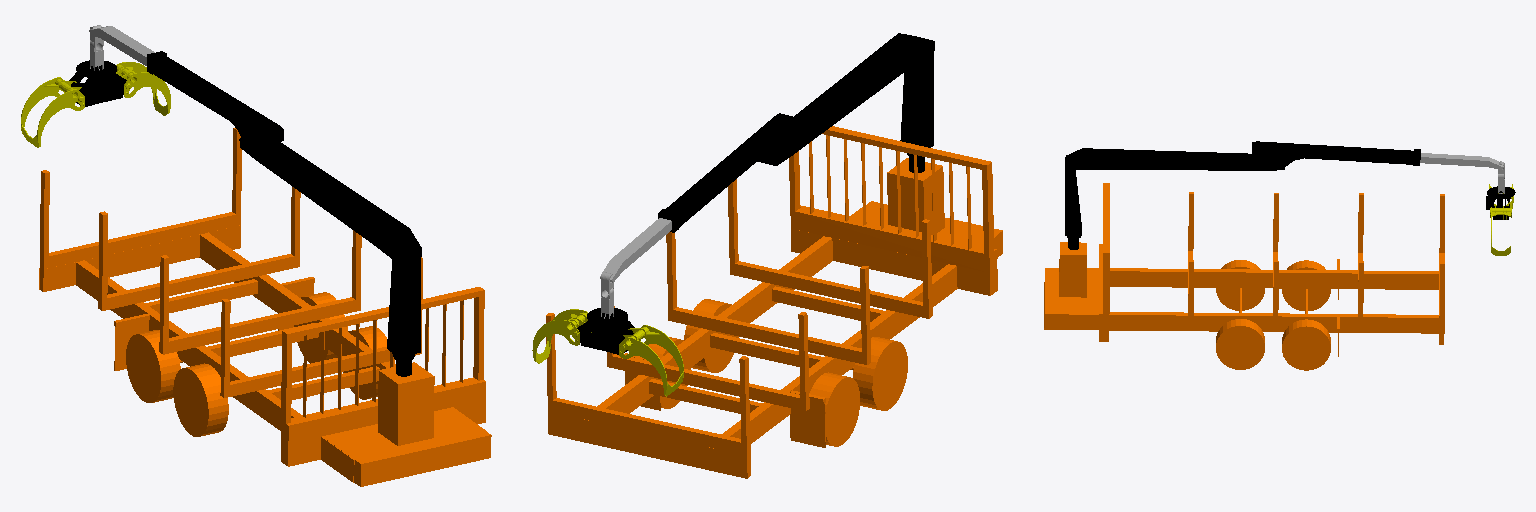
The robot description file, URDF, robot "crane_robot":
<?xml version="1.0" ?>
<!-- =================================================================================== -->
<!-- |    This document was autogenerated by xacro from urdf/fpi_crane.urdf.xacro      | -->
<!-- |    EDITING THIS FILE BY HAND IS NOT RECOMMENDED                                 | -->
<!-- =================================================================================== -->
<robot name="crane_robot">
  <!-- material definition -->
  <material name="black">
    <color rgba="0 0 0 1"/>
  </material>
  <material name="gray">
    <color rgba="0.7 0.7 0.7 1"/>
  </material>
  <material name="yellow">
    <color rgba="0.8 0.8 0 1"/>
  </material>
  <material name="orange">
    <color rgba="1 0.5 0 1"/>
  </material>
  <!-- links -->
  <link name="base_link">
    <visual>
      <geometry>
        <mesh filename="package://fpi_crane_description/meshes/base.stl"/>
      </geometry>
      <origin rpy="0 0 0" xyz="0 0 0"/>
      <material name="black"/>
    </visual>
  </link>
  <link name="mast">
    <visual>
      <geometry>
        <mesh filename="package://fpi_crane_description/meshes/mast.stl"/>
      </geometry>
      <origin rpy="0 0 0" xyz="0 0 0"/>
      <material name="black"/>
    </visual>
  </link>
  <link name="mainboom">
    <visual>
      <geometry>
        <mesh filename="package://fpi_crane_description/meshes/mainboom.stl"/>
      </geometry>
      <origin rpy="0 0 0" xyz="0 0 0"/>
      <material name="black"/>
    </visual>
  </link>
  <link name="stick">
    <visual>
      <geometry>
        <mesh filename="package://fpi_crane_description/meshes/stick.stl"/>
      </geometry>
      <origin rpy="0 0 0" xyz="0 0 0"/>
      <material name="black"/>
    </visual>
  </link>
  <link name="telescope">
    <visual>
      <geometry>
        <mesh filename="package://fpi_crane_description/meshes/telescope.stl"/>
      </geometry>
      <origin rpy="0 0 0" xyz="0 0 0"/>
      <material name="gray"/>
    </visual>
  </link>
  <link name="upperpassive">
    <visual>
      <geometry>
        <mesh filename="package://fpi_crane_description/meshes/upperpassive.stl"/>
      </geometry>
      <origin rpy="0 0 0" xyz="0 0 0"/>
      <material name="gray"/>
    </visual>
  </link>
  <link name="lowerpassive">
    <visual>
      <geometry>
        <mesh filename="package://fpi_crane_description/meshes/lowerpassive.stl"/>
      </geometry>
      <origin rpy="0 0 0" xyz="0 0 0"/>
      <material name="gray"/>
    </visual>
  </link>
  <link name="grapplecarrier">
    <visual>
      <geometry>
        <mesh filename="package://fpi_crane_description/meshes/grapplecarrier.stl"/>
      </geometry>
      <origin rpy="0 0 0" xyz="0 0 0"/>
      <material name="black"/>
    </visual>
  </link>
  <link name="grappletong1">
    <visual>
      <geometry>
        <mesh filename="package://fpi_crane_description/meshes/grappletong1.stl"/>
      </geometry>
      <origin rpy="0 0 0" xyz="0 0 0"/>
      <material name="yellow"/>
    </visual>
  </link>
  <link name="grappletong2">
    <visual>
      <geometry>
        <mesh filename="package://fpi_crane_description/meshes/grappletong2.stl"/>
      </geometry>
      <origin rpy="0 0 0" xyz="0 0 0"/>
      <material name="yellow"/>
    </visual>
  </link>
  <link name="trailer">
    <visual>
      <geometry>
        <mesh filename="package://fpi_crane_description/meshes/trailer.stl"/>
      </geometry>
      <origin rpy="0 0 0" xyz="0  0 0.625"/>
      <material name="orange"/>
    </visual>
  </link>
  <link name="camera_zed">
    <origin rpy="0 0 3.1416" xyz="0.06 -0.0335 0"/>
  </link>
  <link name="mast_sensor_bracket"/>
  <link name="grappletong1_tip"/>
  <link name="grappletong2_tip"/>
  <!-- joints -->
  <joint name="slew_joint" type="revolute">
    <parent link="base_link"/>
    <child link="mast"/>
    <origin xyz="0 0 0.26881"/>
    <axis rpy="0 0 0" xyz="0 0 1"/>
    <limit effort="500.0" lower="-1.74533" upper="1.74533" velocity="0.1745"/>
  </joint>
  <joint name="boom_joint" type="revolute">
    <parent link="mast"/>
    <child link="mainboom"/>
    <origin xyz="0 -0.0601374 1.09553"/>
    <axis rpy="0 0 0" xyz="1 0 0"/>
    <limit effort="500.0" lower="-0.383972" upper="1.309" velocity="0.1745"/>
  </joint>
  <joint name="stick_joint" type="revolute">
    <parent link="mainboom"/>
    <child link="stick"/>
    <origin xyz="0 3.04904 -0.00649"/>
    <axis rpy="0 0 0" xyz="1 0 0"/>
    <limit effort="500.0" lower="-3.08574" upper="0.035" velocity="0.1745"/>
  </joint>
  <joint name="telescope_joint" type="prismatic">
    <parent link="stick"/>
    <child link="telescope"/>
    <origin xyz="0 0.1256771629 0.21905106705"/>
    <axis rpy="0 0 0" xyz="0 0.997833966 -0.065782793"/>
    <limit effort="500.0" lower="0.13" upper="1.8" velocity="0.1"/>
  </joint>
  <joint name="hanger_joint" type="revolute">
    <parent link="telescope"/>
    <child link="upperpassive"/>
    <origin xyz="0 2.03711 -0.20229"/>
    <axis rpy="0 0 0" xyz="1 0 0"/>
    <limit effort="500.0" lower="-3.14159" upper="3.14159" velocity="0.1745"/>
  </joint>
  <joint name="bearingfork_joint" type="revolute">
    <parent link="upperpassive"/>
    <child link="lowerpassive"/>
    <origin xyz="0 0 -0.154"/>
    <axis rpy="0 0 0" xyz="0 1 0"/>
    <limit effort="500.0" lower="-3.14159" upper="3.14159" velocity="0.1745"/>
  </joint>
  <joint name="grapplecarrier_joint" type="revolute">
    <parent link="lowerpassive"/>
    <child link="grapplecarrier"/>
    <origin xyz="0 0 -0.261"/>
    <axis rpy="0 -1.22173 0" xyz="0 0 1"/>
    <limit effort="500.0" lower="-3.1241" upper="3.1241" velocity="0.1745"/>
  </joint>
  <joint name="grappletong1_joint" type="revolute">
    <parent link="grapplecarrier"/>
    <child link="grappletong1"/>
    <origin xyz="-0.275000000000001 -0.0192847891741644 -0.202"/>
    <axis rpy="0 0 0" xyz="0 -1 0"/>
    <limit effort="500.0" lower="0" upper="2.23402" velocity="0.1745"/>
  </joint>
  <joint name="grappletong2_joint" type="revolute">
    <parent link="grapplecarrier"/>
    <child link="grappletong2"/>
    <origin xyz="0.275000000000001 -0.0192847891741644 -0.202"/>
    <axis rpy="0 0 0" xyz="0 1 0"/>
    <limit effort="500.0" lower="0" upper="2.23402" velocity="0.1745"/>
  </joint>
  <joint name="trailer_joint" type="fixed">
    <parent link="base_link"/>
    <child link="trailer"/>
    <origin rpy="-0.010472 0.0191986 0" xyz="0 2.5525 -1.39"/>
  </joint>
  <joint name="camera_zed_joint" type="fixed">
    <parent link="stick"/>
    <child link="camera_zed"/>
    <origin rpy="0 0 0" xyz="0 0.37 0.03"/>
  </joint>
  <joint name="mast_sensor_bracket_joint" type="fixed">
    <parent link="mast"/>
    <child link="mast_sensor_bracket"/>
    <origin rpy="0 0.1 -0.05" xyz="-0.15 0 0.74"/>
  </joint>
  <joint name="grappletong1_tip_joint" type="fixed">
    <parent link="grappletong1"/>
    <child link="grappletong1_tip"/>
    <origin rpy="0 0 0" xyz="-0.458 0.02 -0.458"/>
  </joint>
  <joint name="grappletong2_tip_joint" type="fixed">
    <parent link="grappletong2"/>
    <child link="grappletong2_tip"/>
    <origin rpy="0 0 0" xyz="0.454 0.018 -0.454"/>
  </joint>
  <link name="zed_1_camera_link"/>
  <joint name="zed_1_joint" type="fixed">
    <parent link="camera_zed"/>
    <child link="zed_1_camera_link"/>
    <origin rpy="0 0 1.57" xyz="0 0 0"/>
  </joint>
  <link name="lidar_0/os_sensor"/>
  <joint name="lidar_0_os_sensor_joint" type="fixed">
    <parent link="mast_sensor_bracket"/>
    <child link="lidar_0/os_sensor"/>
    <origin rpy="3.014570 -0.058712 1.592957" xyz="-0.043806 0.063314 -0.021948"/>
  </joint>
  <link name="zed_0_camera_link"/>
  <joint name="zed_0_joint" type="fixed">
    <parent link="lidar_0/os_sensor"/>
    <child link="zed_0_camera_link"/>
    <origin rpy="-3.116670 -0.340682 -0.009565" xyz="-0.063993 0.091270 -0.158041"/>
  </joint>
</robot>

--- Render facts (derived) ---
Views: 3 orthographic renders of the robot side by side, from view 1: azimuth 30°, elevation 25°; view 2: azimuth 150°, elevation 25°; view 3: azimuth 270°, elevation 25°.
Model crane_robot with 18 links and 17 joints (8 revolute, 1 prismatic, 8 fixed), rooted at base_link, posed joints at zero except 1 at the middle of their limits (telescope_joint = 0.965).
Visible links, largest first — view 1: trailer, mainboom, stick, mast, grappletong1, grapplecarrier, grappletong2, telescope; view 2: trailer, mainboom, stick, mast, grappletong1, grapplecarrier, telescope, grappletong2; view 3: trailer, mainboom, stick, mast, telescope.
Boxes of the visible links, x1,y1,x2,y2 form: trailer: [39, 128, 491, 486]; mainboom: [239, 138, 421, 262]; stick: [147, 51, 283, 144]; mast: [387, 249, 420, 357]; grappletong1: [21, 77, 84, 147]; grapplecarrier: [69, 60, 126, 106]; grappletong2: [116, 62, 170, 115]; telescope: [89, 26, 154, 65]; trailer: [546, 126, 1002, 478]; mainboom: [757, 33, 934, 165]; stick: [658, 113, 795, 232]; mast: [900, 52, 933, 147]; grappletong1: [619, 325, 683, 396]; grapplecarrier: [577, 308, 634, 354]; telescope: [600, 218, 671, 282]; grappletong2: [532, 309, 591, 363]; trailer: [1044, 183, 1444, 370]; mainboom: [1066, 148, 1285, 170]; stick: [1252, 141, 1420, 165]; mast: [1065, 157, 1081, 235]; telescope: [1420, 153, 1503, 169].
Size in the robot's own frame: 2.31 by 6.74 by 3.08 metres.
Meshes: 11 distinct files referenced, 11 mesh visuals loaded (11 binary STL).
